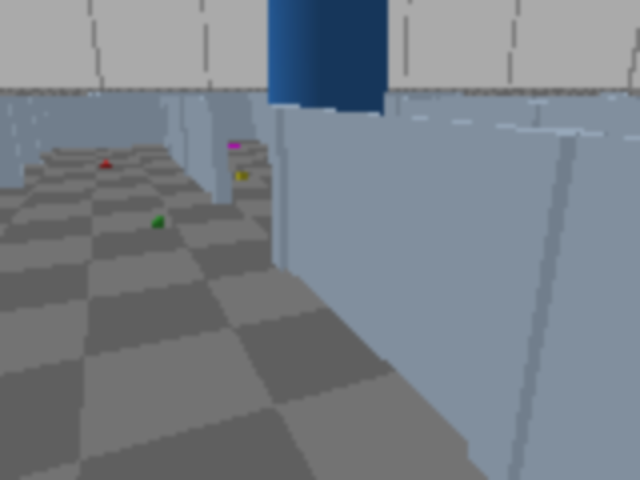puck: (149, 214, 169, 231)
